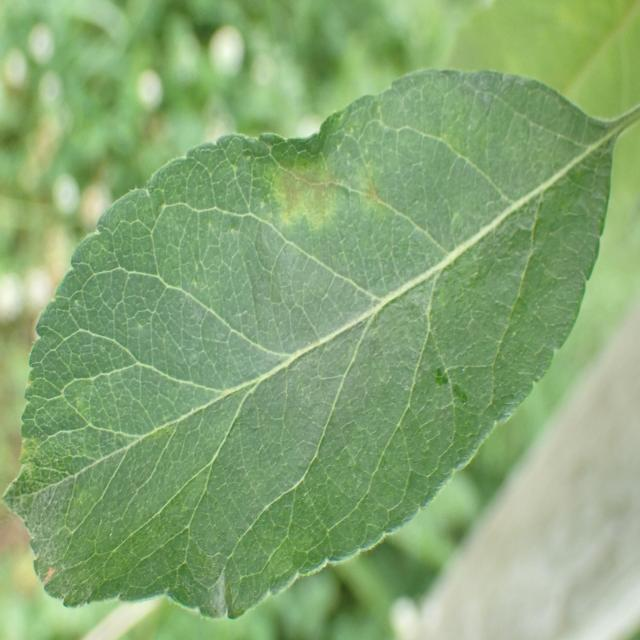scab: (192, 107, 450, 278)
